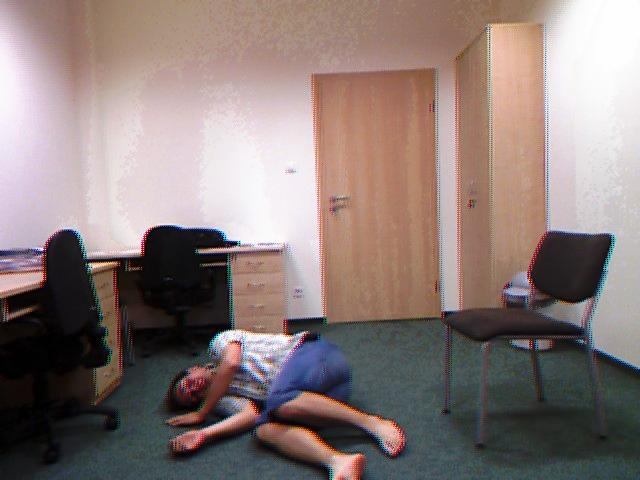fall: (163, 324, 414, 480)
